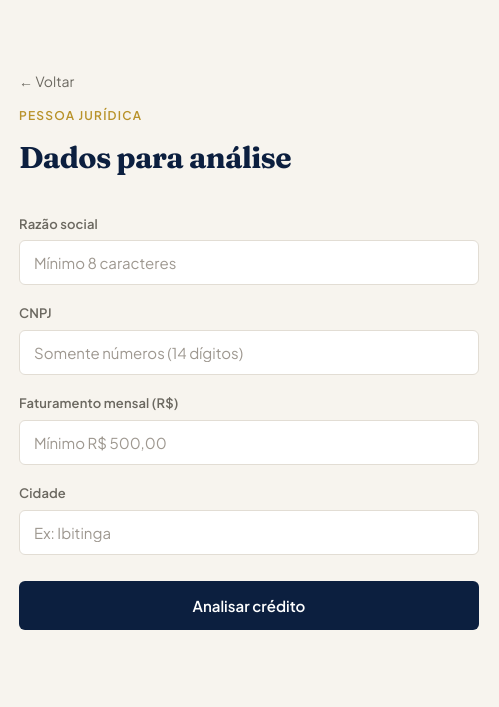
Scenario: CompanyForm › shows required errors when submitting empty form
The image size is (499, 707).
Click the button "Analisar crédito": (249, 605) [19,581,479,630]
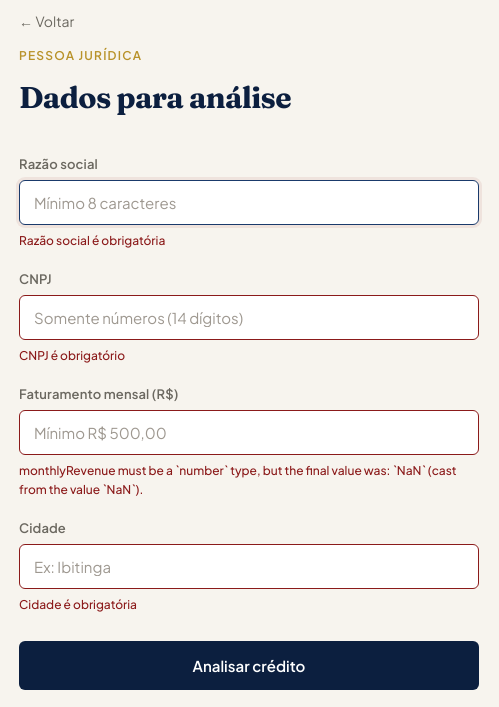
Result: the text "Razão social é obrigatória" is shown at [19,233,165,248]
